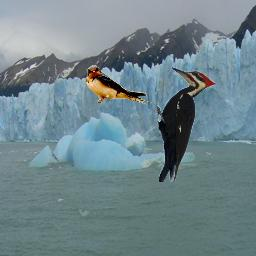Swallow: (85, 65, 154, 107)
Woodpecker: (157, 66, 218, 182)
